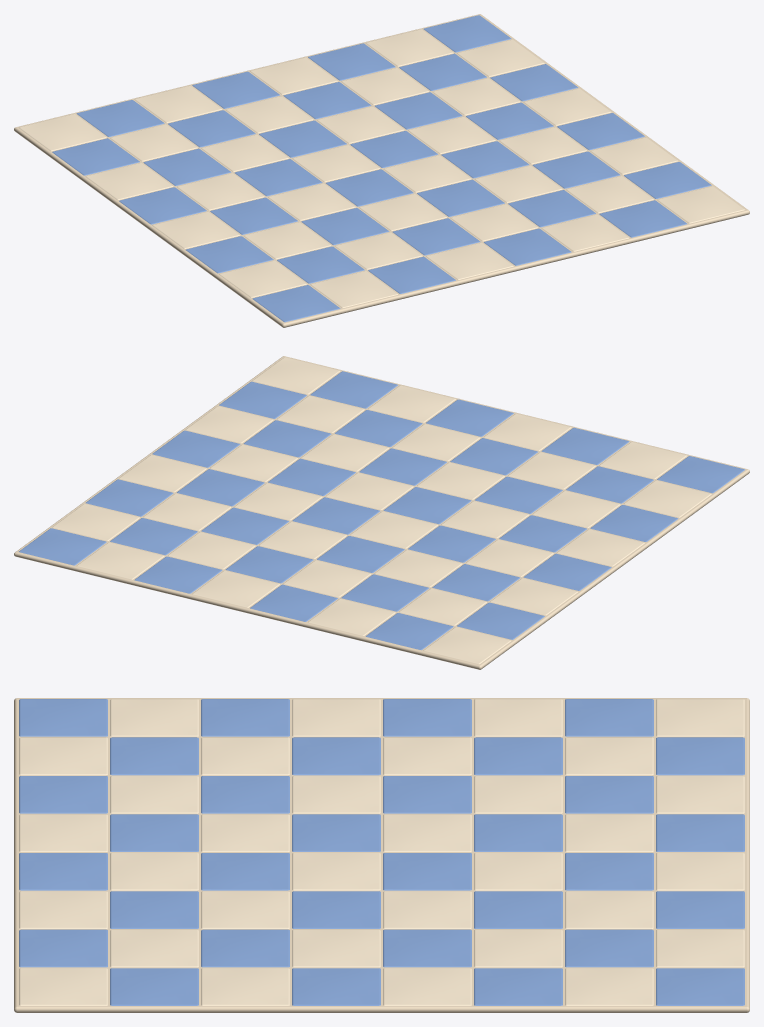
Rendered from board.glb.
The picture shows the model from 3 angles, top to bottom: view 1: azimuth 30°, elevation 25°; view 2: azimuth 150°, elevation 25°; view 3: azimuth 270°, elevation 25°; orthographic projection. The views are drawn at different scales.
Visible parts, largest first — view 1: cloud-chessboard-blue-square, cloud-chessboard-ivory-square, cloud-chessboard-cream-stone-frame; view 2: cloud-chessboard-ivory-square, cloud-chessboard-blue-square, cloud-chessboard-cream-stone-frame; view 3: cloud-chessboard-blue-square, cloud-chessboard-ivory-square, cloud-chessboard-cream-stone-frame.
Part boxes in pixels (x1,y1,x2,y2): cloud-chessboard-blue-square: [52, 15, 711, 322]; cloud-chessboard-ivory-square: [19, 29, 744, 308]; cloud-chessboard-cream-stone-frame: [14, 14, 749, 327]; cloud-chessboard-ivory-square: [52, 357, 711, 664]; cloud-chessboard-blue-square: [19, 371, 744, 650]; cloud-chessboard-cream-stone-frame: [14, 356, 749, 669]; cloud-chessboard-blue-square: [19, 699, 744, 1005]; cloud-chessboard-ivory-square: [19, 699, 744, 1005]; cloud-chessboard-cream-stone-frame: [14, 698, 749, 1012].
Bounding box in the file's own units: 8.09 × 0.098 × 8.09.
